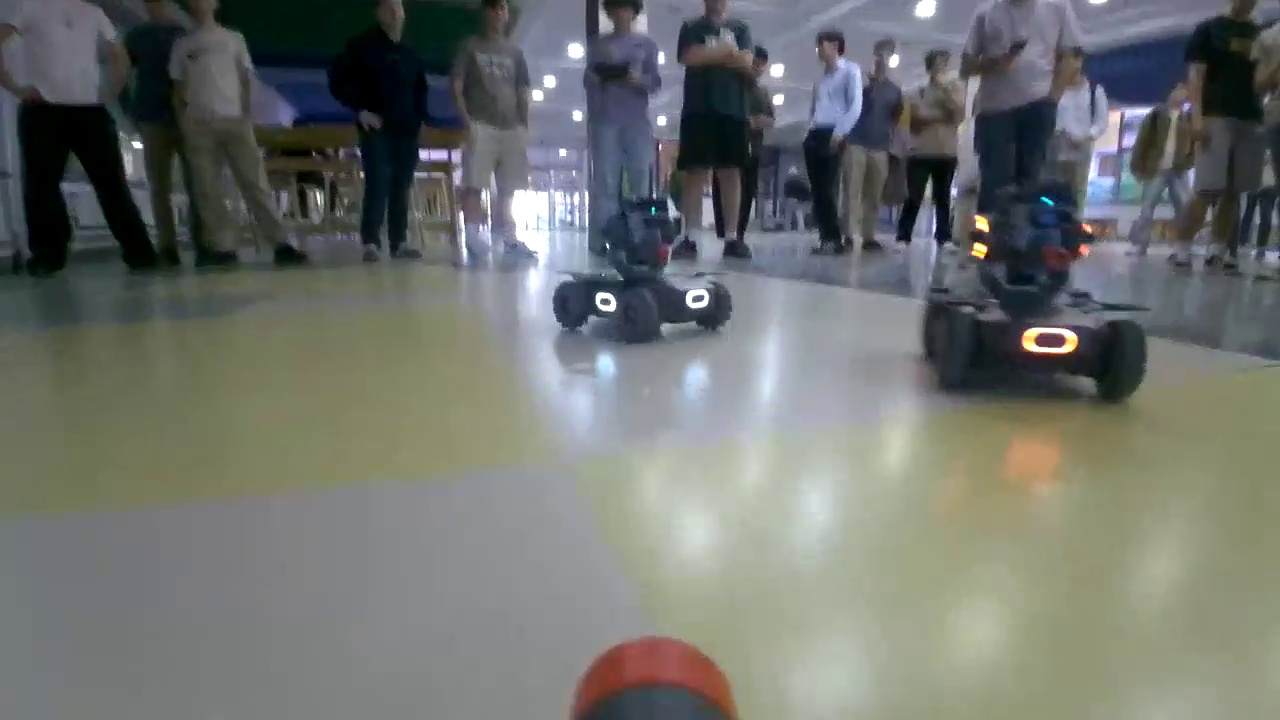robot: (921, 186, 1147, 400), (554, 193, 734, 344)
